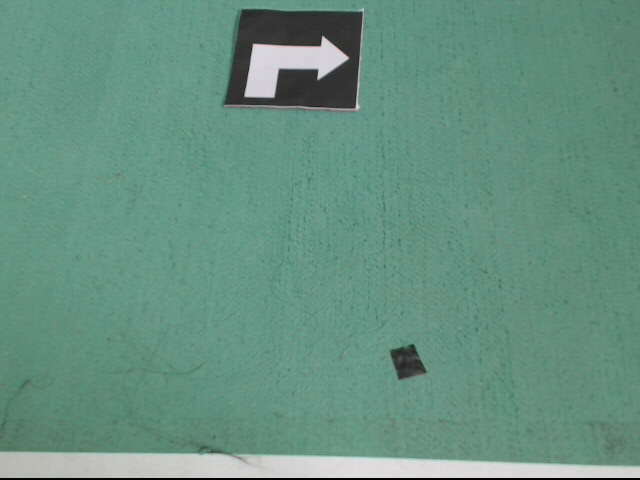right: (221, 9, 365, 109)
